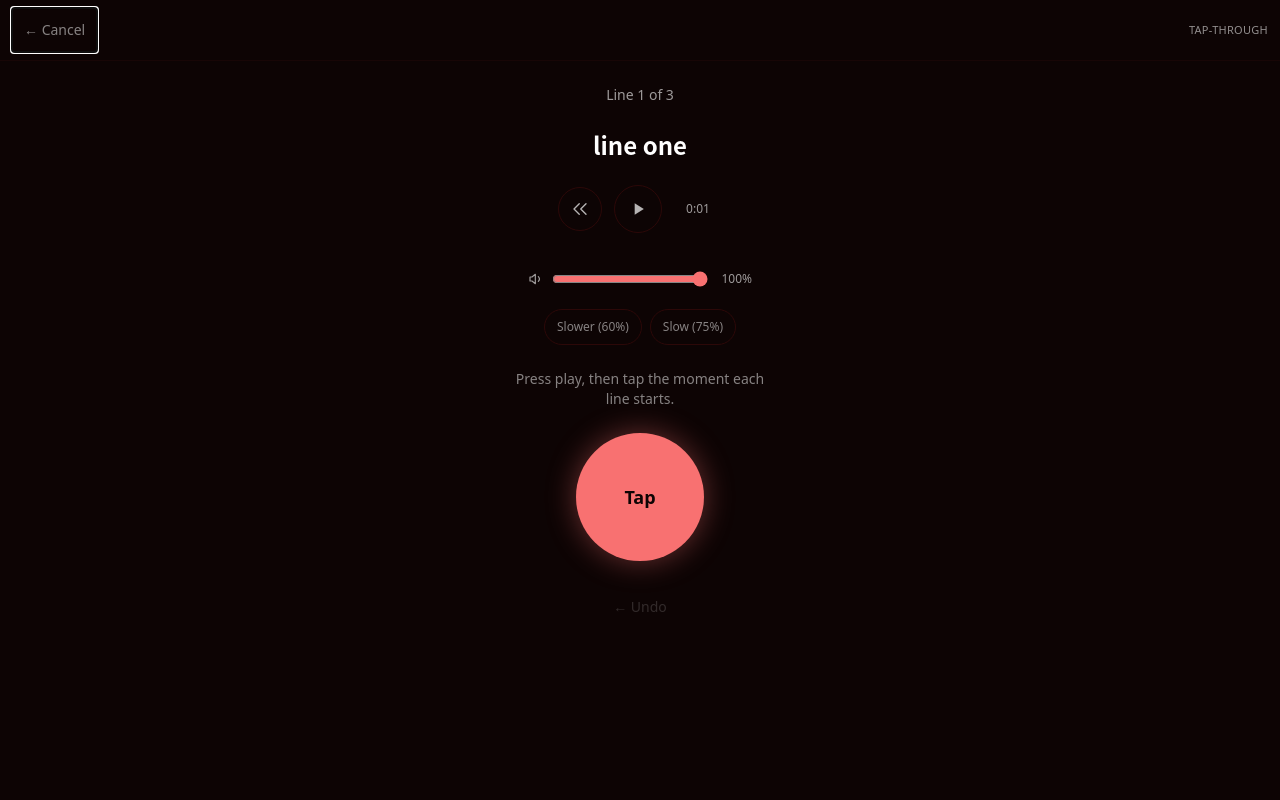
Test: TapSyncEditor — leaving the screen › Escape with taps in progress asks first rather than discarding them
Click the button with aria-label "Mark line start" at (640,497), box [576, 433, 704, 561]
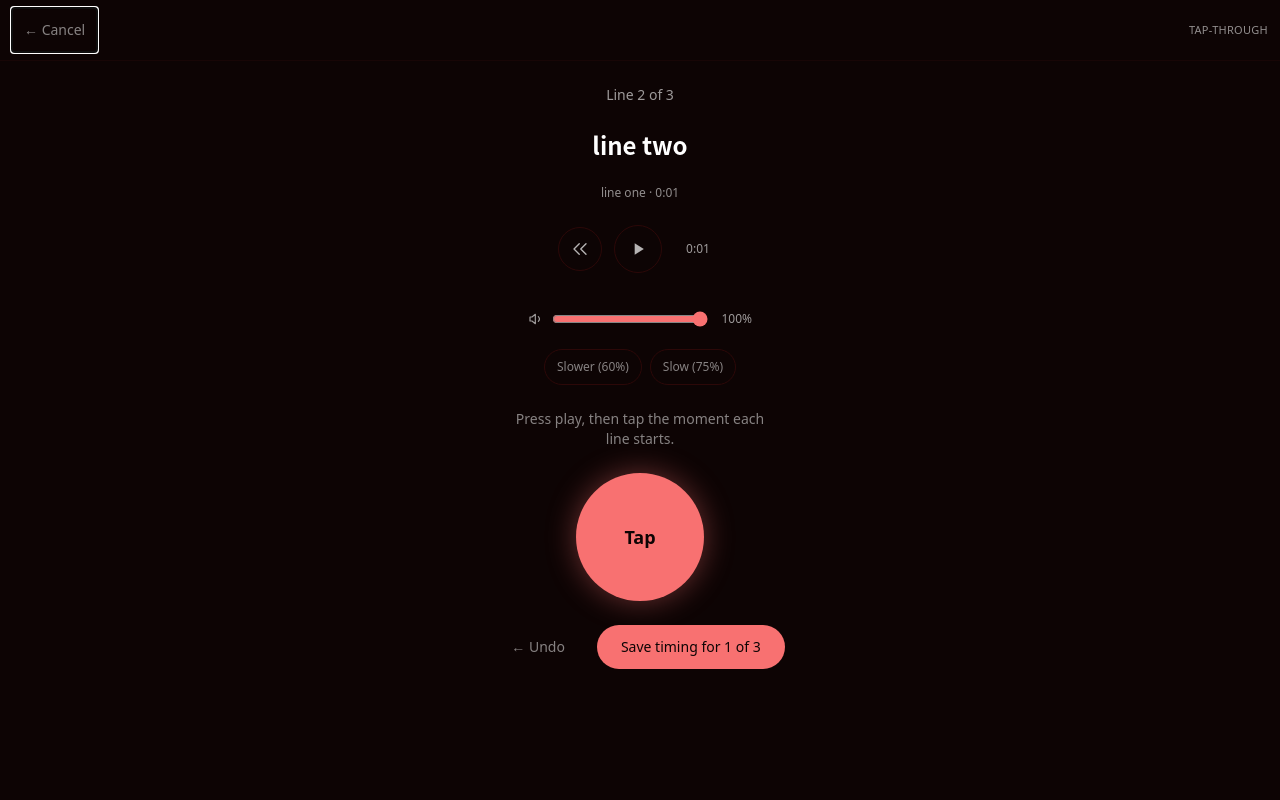
Press Escape
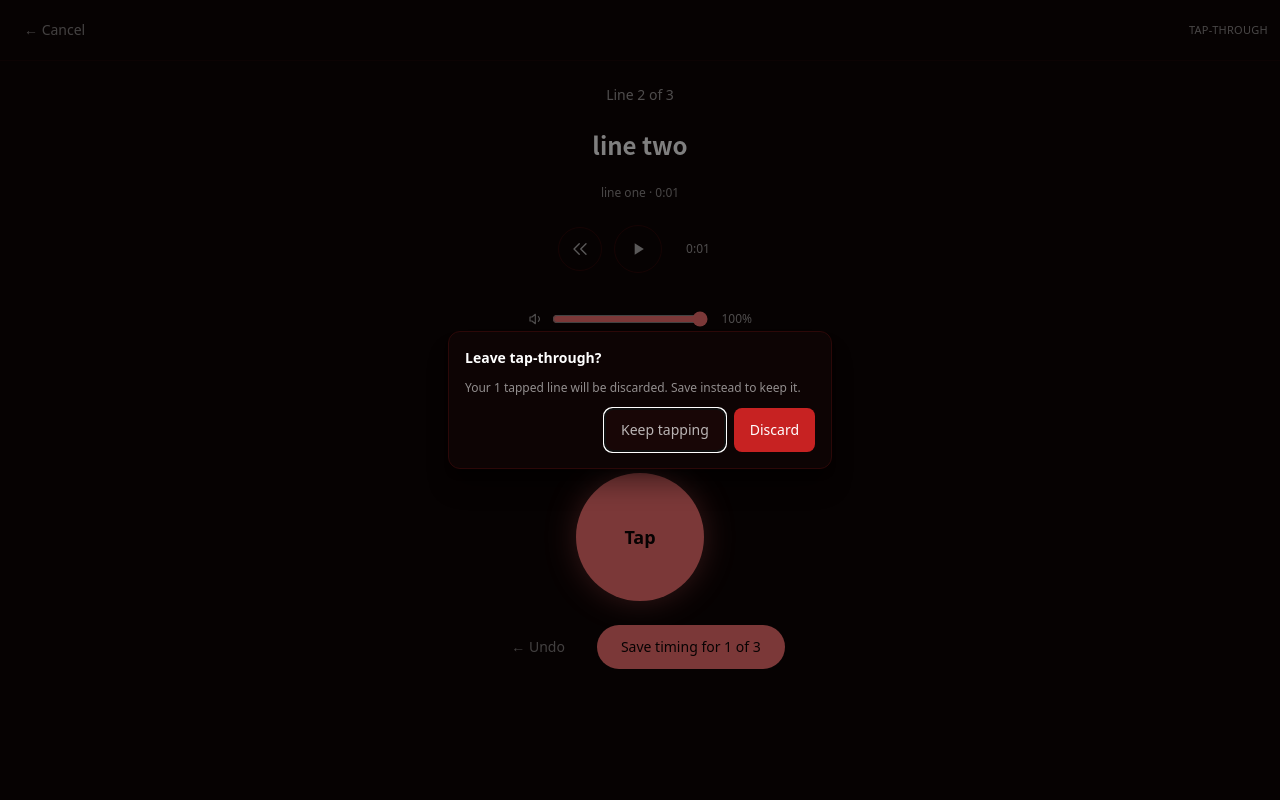
Expected: the text "1 tapped line" is shown, [465, 379, 801, 396]
